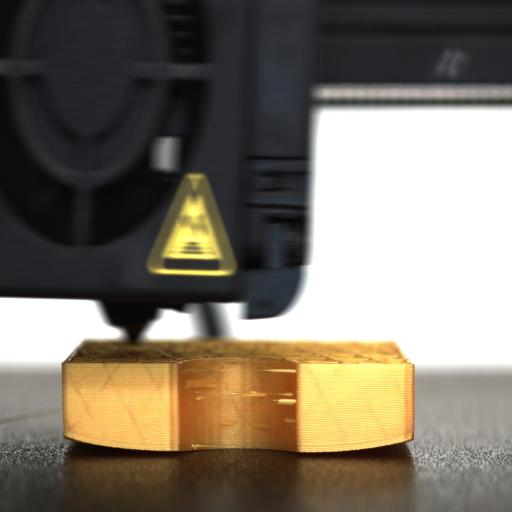warp: (297, 428, 426, 459), (60, 428, 180, 455)
